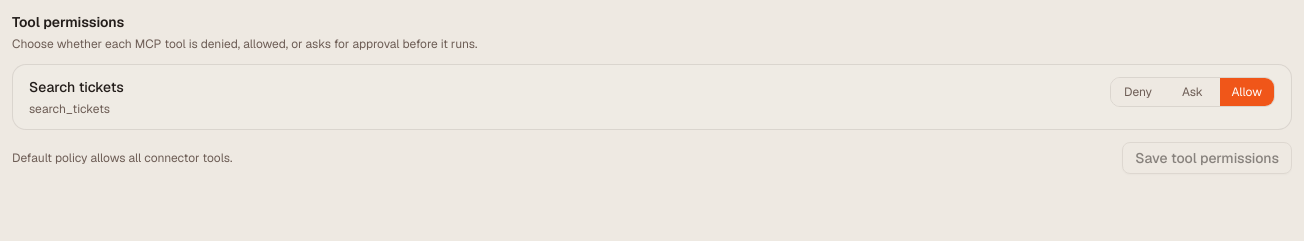
Test: ConnectorToolPermissionsSection › shows save failures without notifying config changes
Check: the text "Search tickets" is shown, box [29,77,124,97]
Click the button "Deny".
click(1138, 92)  # box [1111,78,1165,106]
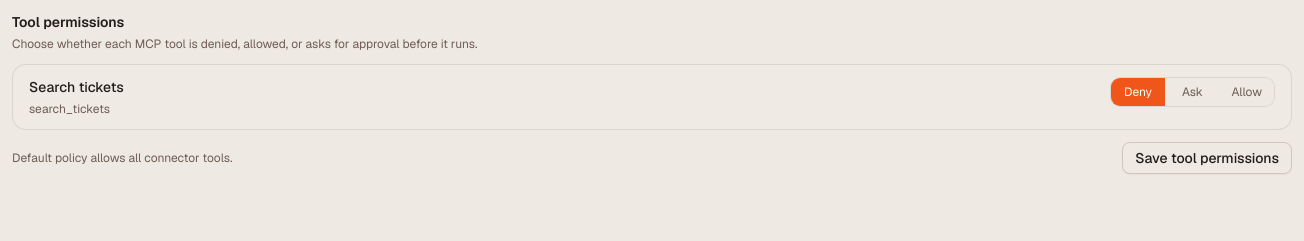
Click the button "Save tool permissions".
click(1207, 158)  # box [1122,142,1292,174]
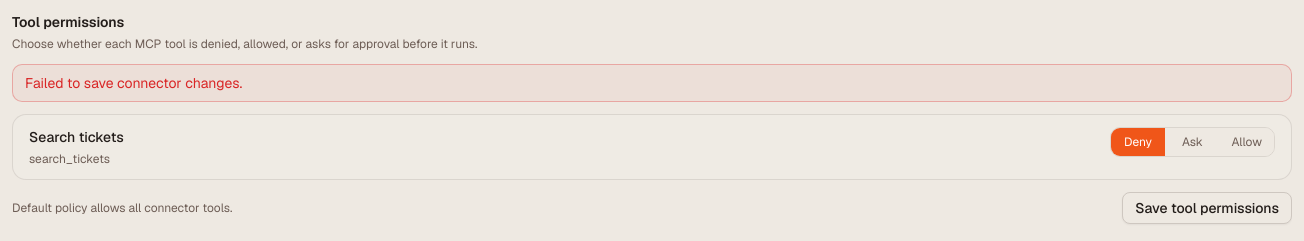
Check: the text "Failed to save connector changes." is shown, box [12,64,1292,102]
Click the button "Save tool permissions".
click(1207, 208)  # box [1122,192,1292,224]
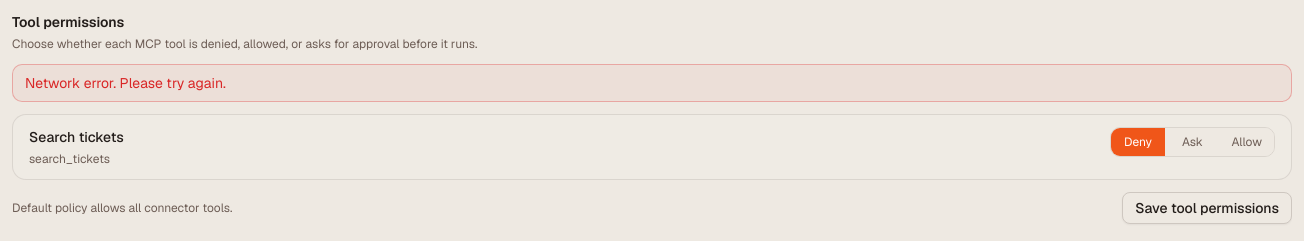
Check: the text "Network error. Please try again." is shown, box [12,64,1292,102]
